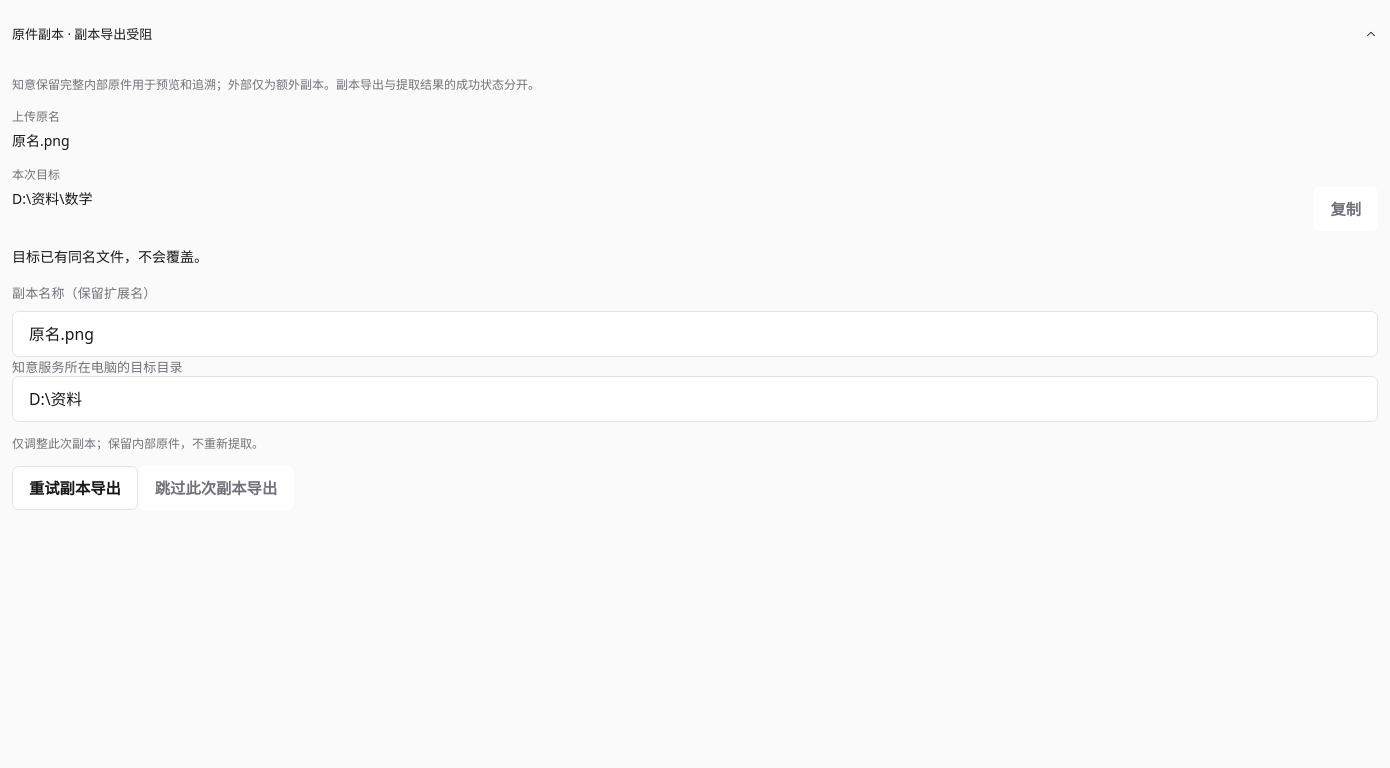
Test: preserves actionable controls after an API failure
The width and height of the screenshot is (1390, 768).
Click the button "重试副本导出" at point(75, 488), box top-left (12, 466), bottom-right (138, 510)
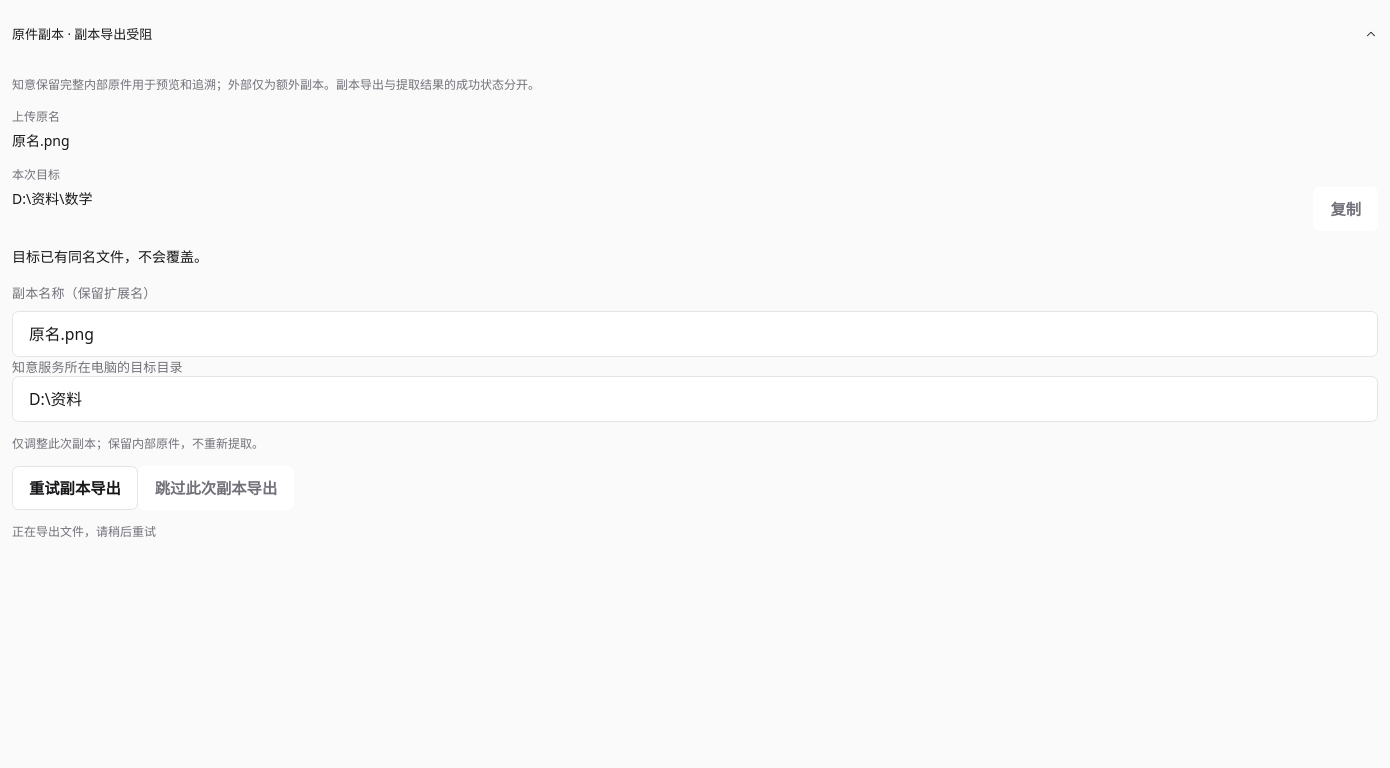
Check: the message shows "请稍后重试", box top-left (12, 523), bottom-right (156, 540)
